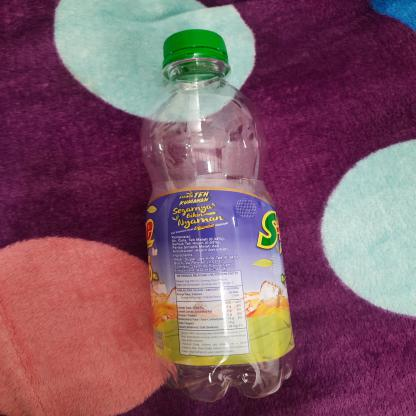bottle: (139, 25, 298, 403)
